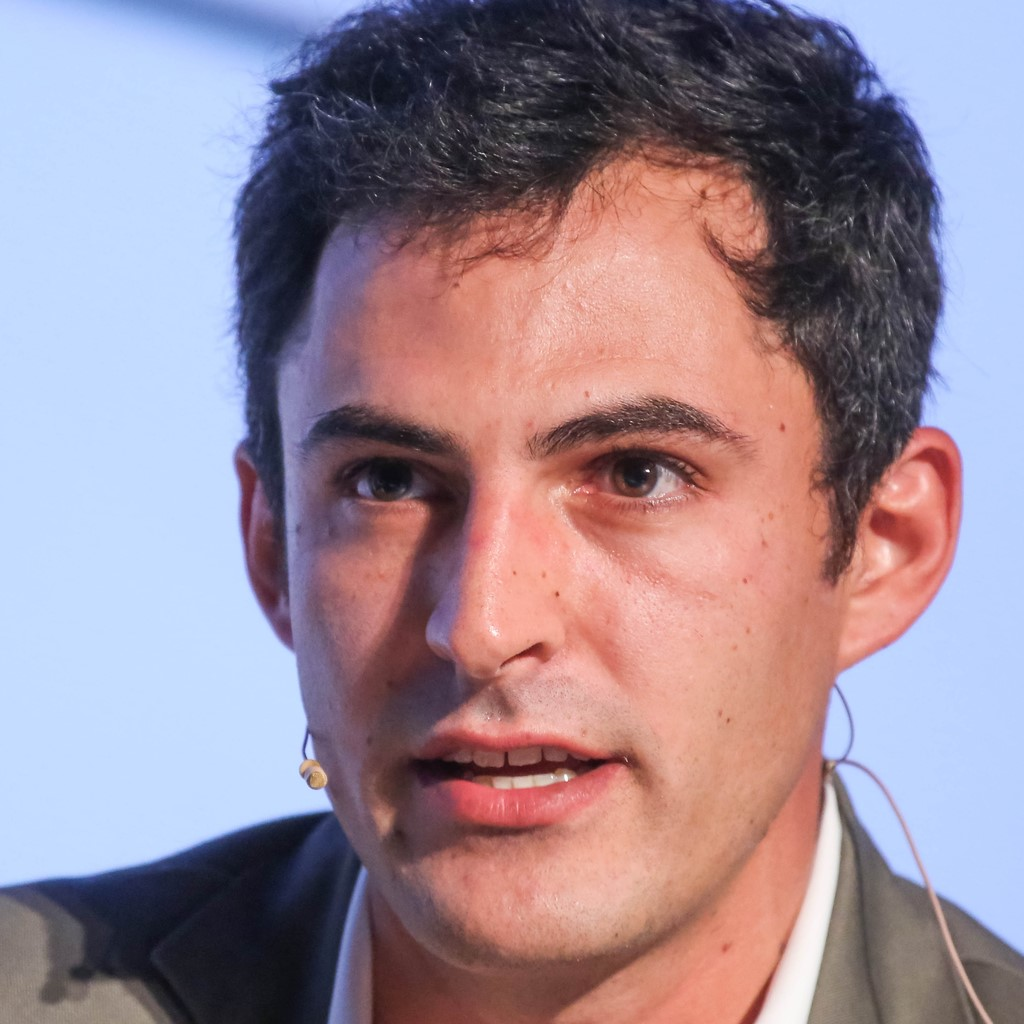sin_mascara: (260, 108, 884, 965)
